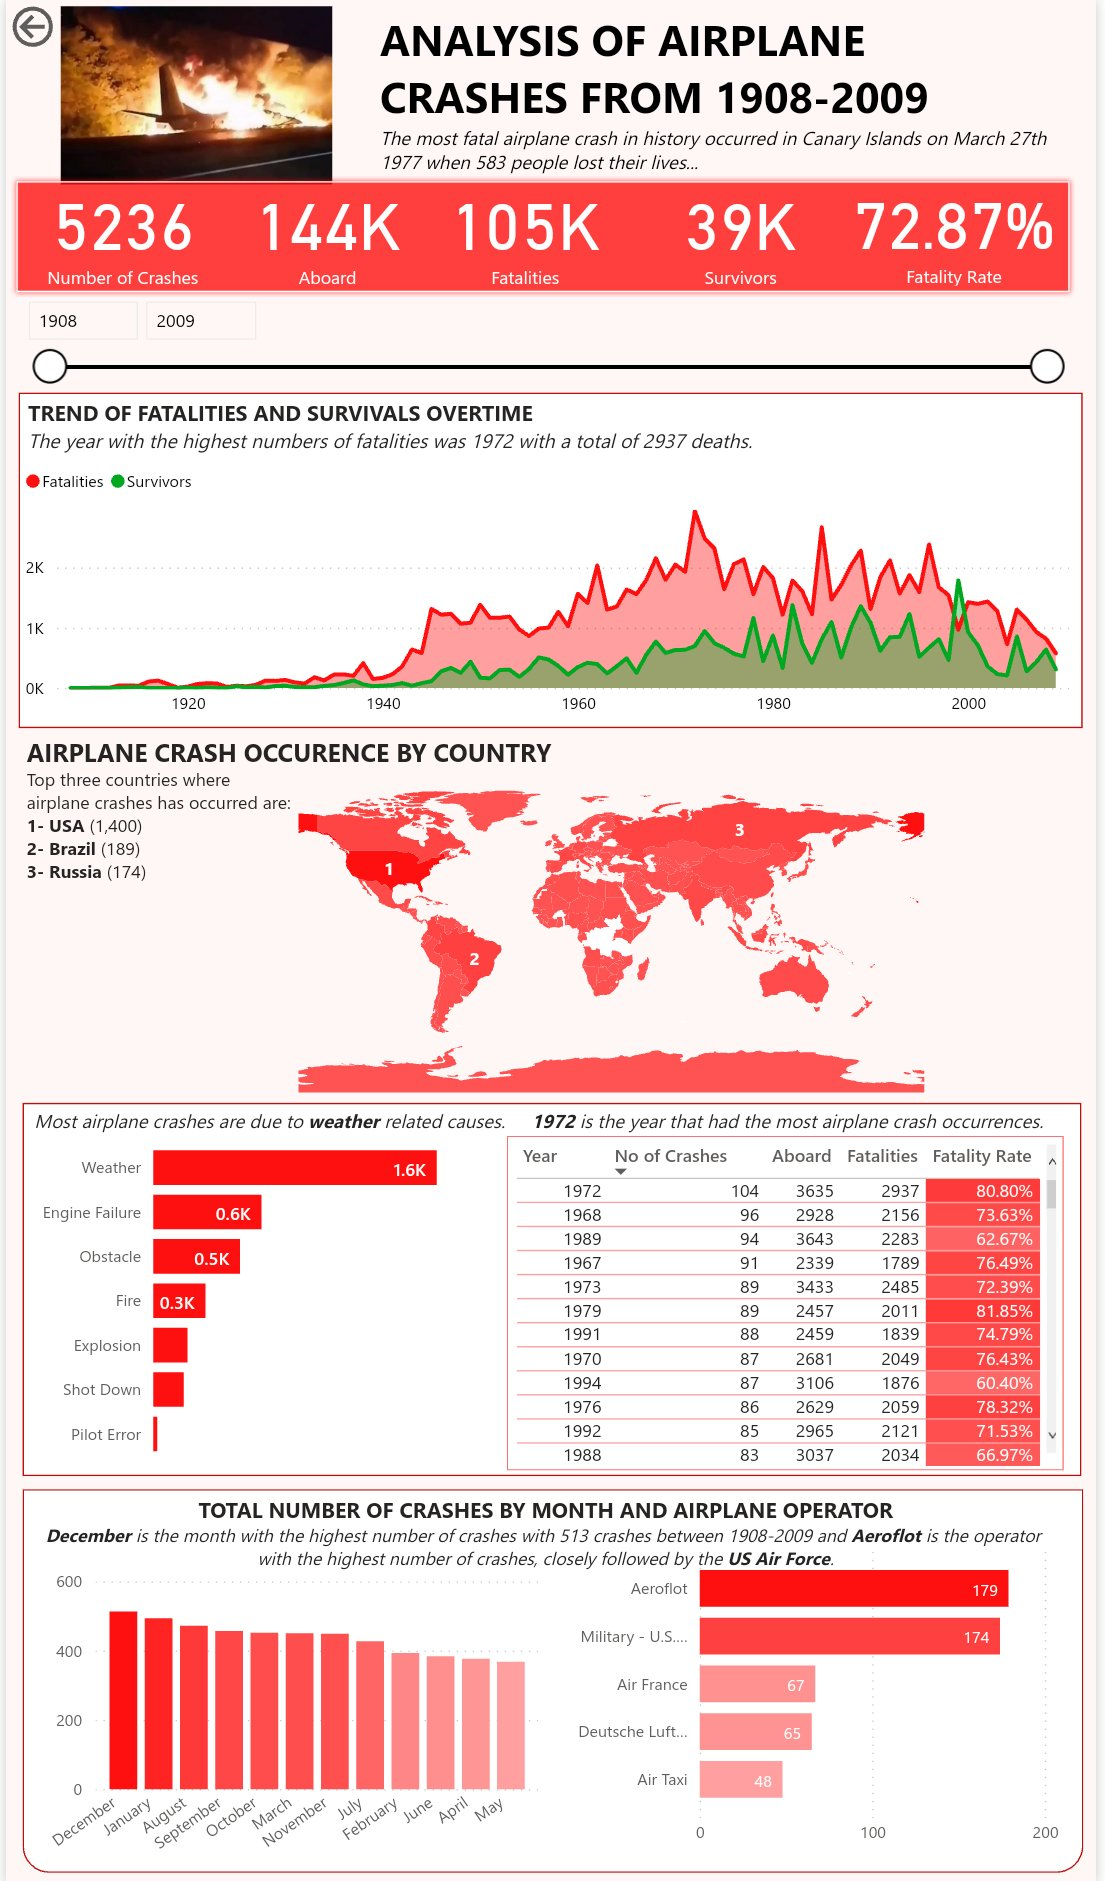

This screenshot's page, from the dashboard's own definition file:
{"tool":"powerbi","page":{"name":"Analysis","canvas":[816,1408],"ordinal":1},"visuals":[{"type":"image","box":[9.3,0,265.9,143.2],"z":0},{"type":"card","fields":{"Values":["Sum(Airplane_Crashes_and_Fatalities_Since_1908.Fatalities)"]},"box":[307.9,126.4,161.1,93],"z":0,"group":"g1"},{"type":"card","fields":{"Values":["Sum(Airplane_Crashes_and_Fatalities_Since_1908.Survivors)"]},"box":[471.1,126.4,157,93],"z":1000,"group":"g1"},{"type":"shape","box":[3.7,132,795.7,91.1],"z":1000},{"type":"card","fields":{"Values":["Sum(Airplane_Crashes_and_Fatalities_Since_1908.Aboard)"]},"box":[175.3,126.4,130.5,93],"z":2000,"group":"g1"},{"type":"shape","box":[9.3,293.7,795.7,251],"z":2000},{"type":"card","fields":{"Values":["Airplane_Crashes_and_Fatalities_Since_1908.Fatality Rate1"]},"box":[625.9,125.7,167.2,93],"z":3000,"group":"g1"},{"type":"areaChart","fields":{"Category":["Airplane_Crashes_and_Fatalities_Since_1908.Year"],"Y":["Sum(Airplane_Crashes_and_Fatalities_Since_1908.Fatalities)","Sum(Airplane_Crashes_and_Fatalities_Since_1908.Survivors)"]},"box":[9.3,340.2,793.9,204.5],"z":3000},{"type":"card","fields":{"Values":["CountNonNull(Airplane_Crashes_and_Fatalities_Since_1908.Index)"]},"box":[2,126.4,171.2,93],"z":4000,"group":"g1"},{"type":"shape","box":[12.7,1114.3,793.7,287.3],"z":4000},{"type":"clusteredBarChart","fields":{"Category":["Airplane_Crashes_and_Fatalities_Since_1908.Operator"],"Y":["CountNonNull(Airplane_Crashes_and_Fatalities_Since_1908.Index)"]},"box":[411.3,1147.6,381.1,241.7],"z":5000},{"type":"slicer","fields":{"Values":["Airplane_Crashes_and_Fatalities_Since_1908.Year"]},"box":[3.7,215.7,795.7,78.1],"z":6000},{"type":"textbox","box":[10.6,544.7,418.1,123.4],"z":7000},{"type":"columnChart","fields":{"Category":["Airplane_Crashes_and_Fatalities_Since_1908.MonthName"],"Y":["CountNonNull(Airplane_Crashes_and_Fatalities_Since_1908.Index)"]},"box":[17.5,1170,386.9,237.4],"z":8000},{"type":"textbox","box":[11.2,293.7,580.1,63.2],"z":9000},{"type":"textbox","box":[275.2,3.7,431.3,120.8],"z":10000},{"type":"textbox","box":[275.2,89.2,541,70.6],"z":11000},{"type":"textbox","box":[15.3,1114.1,777.1,68.8],"z":12000},{"type":"shapeMap","fields":{"Category":["Airplane_Crashes_and_Fatalities_Since_1908.Country"],"Value":["CountNonNull(Airplane_Crashes_and_Fatalities_Since_1908.Index)"]},"box":[90.8,574.7,725.3,260.9],"z":13000},{"type":"actionButton","box":[0,0,38.8,40.3],"z":14000},{"type":"group","id":"g1","title":"Group 1","box":[2,125.7,791.1,93.7],"z":15000},{"type":"shape","box":[12.6,825.3,792,279.3],"z":16000},{"type":"barChart","fields":{"Category":["Airplane_Crashes_and_Fatalities_Since_1908.Reason"],"Y":["CountNonNull(Airplane_Crashes_and_Fatalities_Since_1908.Index)"]},"box":[15,835,373.3,270],"z":17000},{"type":"tableEx","fields":{"Values":["Airplane_Crashes_and_Fatalities_Since_1908.Year","CountNonNull(Airplane_Crashes_and_Fatalities_Since_1908.Index)","Sum(Airplane_Crashes_and_Fatalities_Since_1908.Aboard)","Sum(Airplane_Crashes_and_Fatalities_Since_1908.Fatalities)","Airplane_Crashes_and_Fatalities_Since_1908.Fatality Rate"]},"box":[375,850,416.7,250],"z":18000},{"type":"textbox","box":[16.7,825,371.7,41.7],"z":19000},{"type":"textbox","box":[388.3,825,416.7,41.7],"z":20000},{"type":"textbox","box":[271.9,635.9,29.7,28.1],"z":21000},{"type":"textbox","box":[335.9,703.9,29.7,28.1],"z":22000},{"type":"textbox","box":[534.4,607.8,29.7,28.1],"z":23000}]}

Visuals, with their boxes in screenshot pixels (x1, y1, x2, y2), scaled from the page's 816x1408 canvas onto the 1105x1881 screenshot:
image: bbox=[13, 0, 373, 191]
card - Sum(Airplane_Crashes_and_Fatalities_Since_1908.Fatalities): bbox=[417, 169, 635, 293]
card - Sum(Airplane_Crashes_and_Fatalities_Since_1908.Survivors): bbox=[638, 169, 851, 293]
shape: bbox=[5, 176, 1083, 298]
card - Sum(Airplane_Crashes_and_Fatalities_Since_1908.Aboard): bbox=[237, 169, 414, 293]
shape: bbox=[13, 392, 1090, 728]
card - Airplane_Crashes_and_Fatalities_Since_1908.Fatality Rate1: bbox=[848, 168, 1074, 292]
areaChart - Airplane_Crashes_and_Fatalities_Since_1908.Year x Sum(Airplane_Crashes_and_Fatalities_Since_1908.Fatalities): bbox=[13, 454, 1088, 728]
card - CountNonNull(Airplane_Crashes_and_Fatalities_Since_1908.Index): bbox=[3, 169, 235, 293]
shape: bbox=[17, 1489, 1092, 1872]
clusteredBarChart - Airplane_Crashes_and_Fatalities_Since_1908.Operator x CountNonNull(Airplane_Crashes_and_Fatalities_Since_1908.Index): bbox=[557, 1533, 1073, 1856]
slicer - Airplane_Crashes_and_Fatalities_Since_1908.Year: bbox=[5, 288, 1083, 392]
textbox: bbox=[14, 728, 581, 893]
columnChart - Airplane_Crashes_and_Fatalities_Since_1908.MonthName x CountNonNull(Airplane_Crashes_and_Fatalities_Since_1908.Index): bbox=[24, 1563, 548, 1880]
textbox: bbox=[15, 392, 801, 477]
textbox: bbox=[373, 5, 957, 166]
textbox: bbox=[373, 119, 1104, 213]
textbox: bbox=[21, 1488, 1073, 1580]
shapeMap - Airplane_Crashes_and_Fatalities_Since_1908.Country x CountNonNull(Airplane_Crashes_and_Fatalities_Since_1908.Index): bbox=[123, 768, 1104, 1116]
actionButton: bbox=[0, 0, 53, 54]
"Group 1" group: bbox=[3, 168, 1074, 293]
shape: bbox=[17, 1103, 1090, 1476]
barChart - Airplane_Crashes_and_Fatalities_Since_1908.Reason x CountNonNull(Airplane_Crashes_and_Fatalities_Since_1908.Index): bbox=[20, 1116, 526, 1476]
tableEx - Airplane_Crashes_and_Fatalities_Since_1908.Year x CountNonNull(Airplane_Crashes_and_Fatalities_Since_1908.Index): bbox=[508, 1136, 1072, 1470]
textbox: bbox=[23, 1102, 526, 1158]
textbox: bbox=[526, 1102, 1090, 1158]
textbox: bbox=[368, 850, 408, 887]
textbox: bbox=[455, 940, 495, 978]
textbox: bbox=[724, 812, 764, 850]
